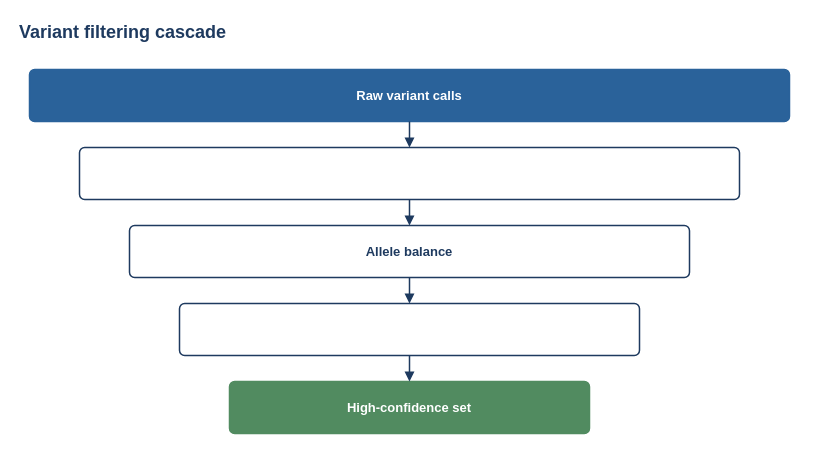
The diagram is 818 pixels wide and 451 high, and some of its shapes have lost their labels. The box of each missing label's shape, as (x1, y1, x2, y2) in pixels:
Population frequency: (178, 302, 640, 356)
Quality and depth: (78, 146, 740, 200)
